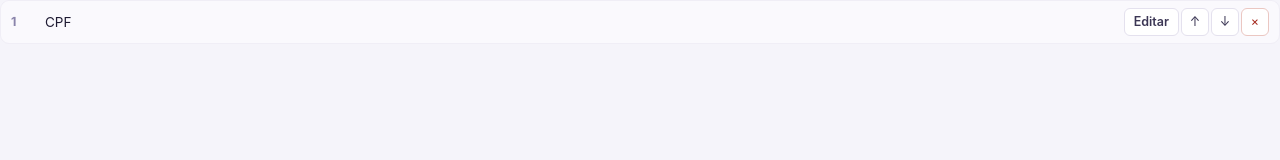
Test: DocumentItem › mostra a dica de Enter e Esc e os botões OK e Cancelar durante a edição
Click the button titled "Editar": (1151, 22) x1=1124 y1=8 x2=1179 y2=36
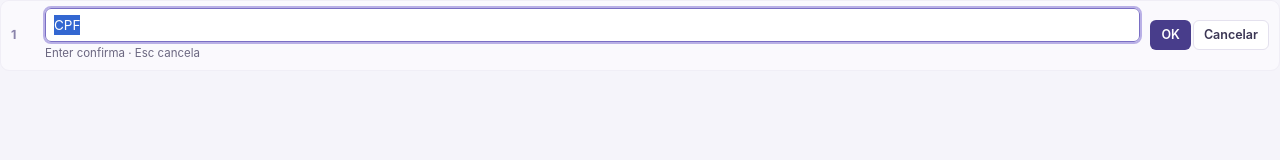
Now the text "Enter confirma · Esc cancela" is shown, box x1=45 y1=46 x2=200 y2=60
Now the button "OK" is shown, box x1=1150 y1=20 x2=1191 y2=50
Now the button "Cancelar" is shown, box x1=1193 y1=20 x2=1269 y2=50
